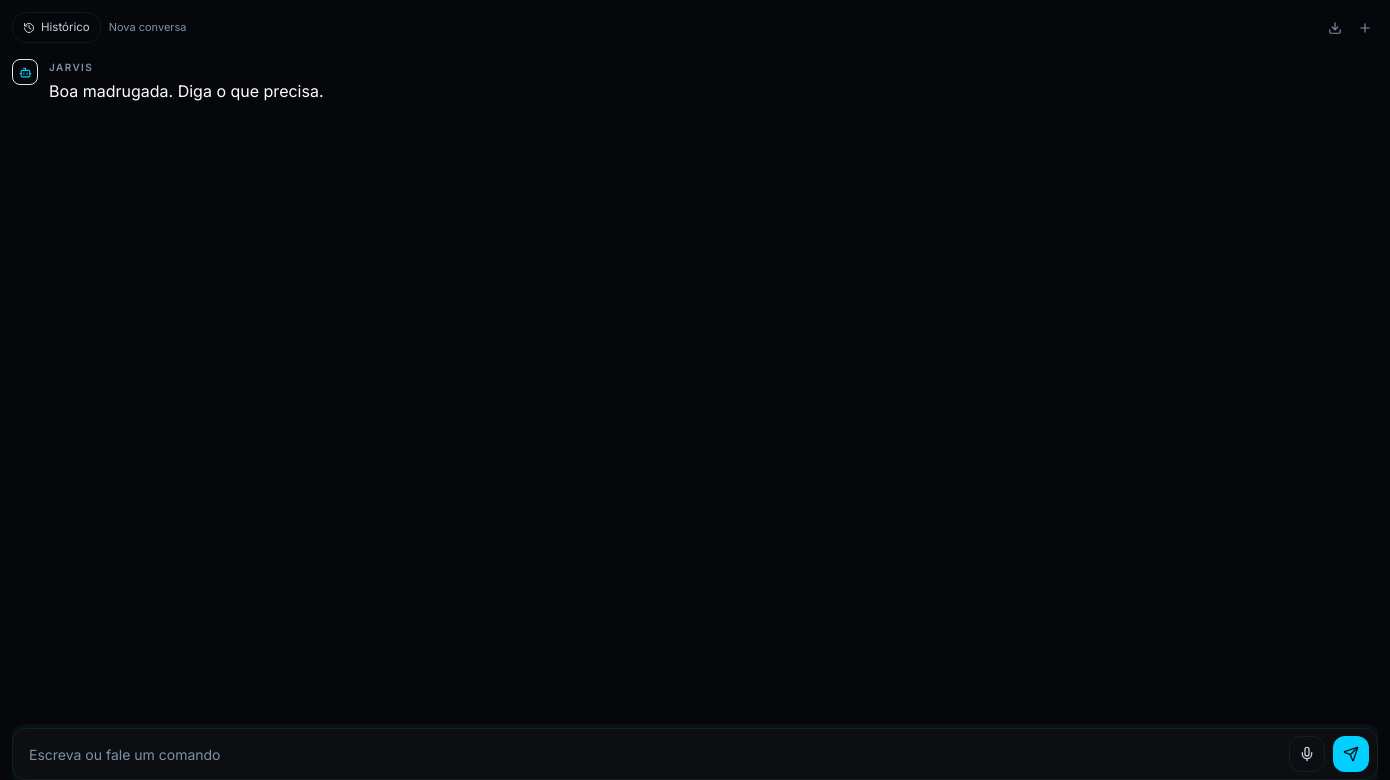
Test: histórico › a memória diz onde fica guardada
Click the button with aria-label "Histórico de conversas" at (56, 28), box [12,12,101,43]
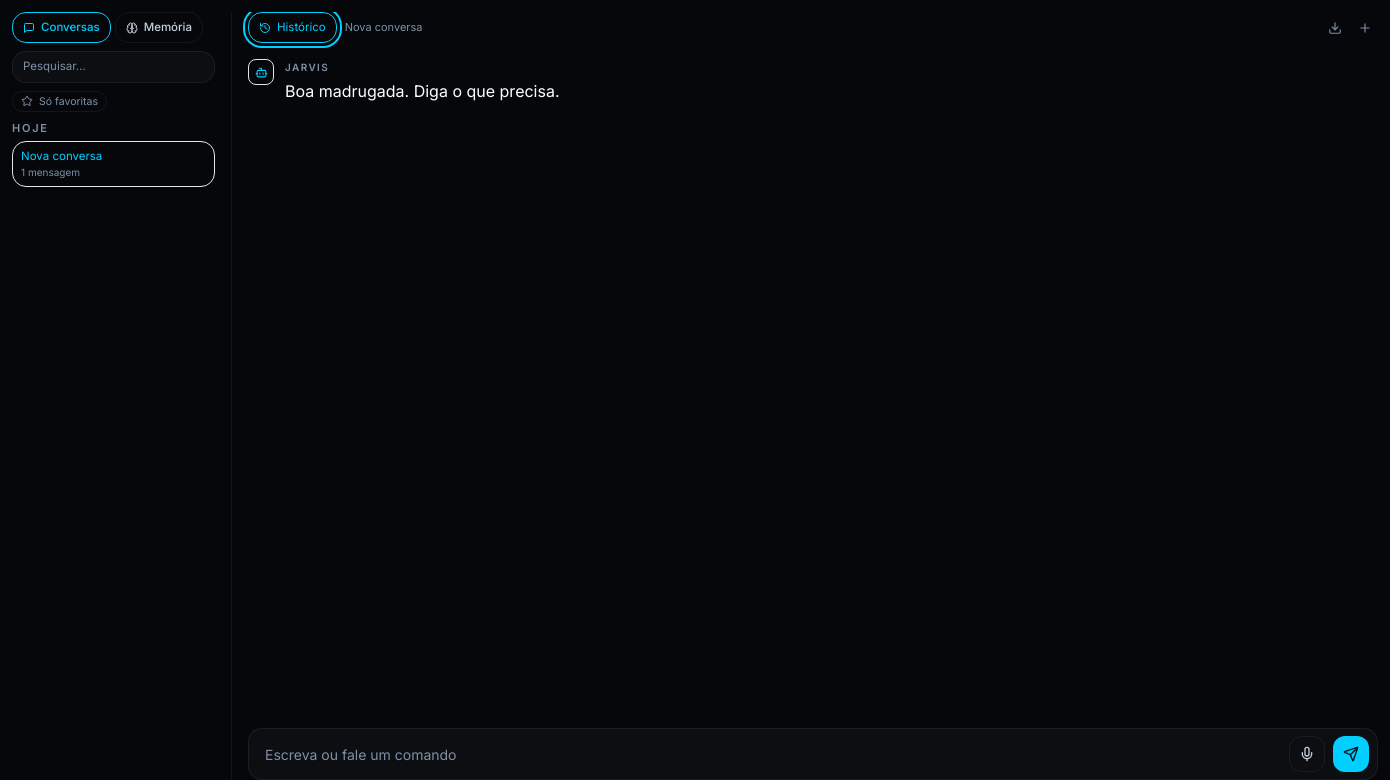
Click the tab "Memória" at (159, 28), box [115,12,203,43]
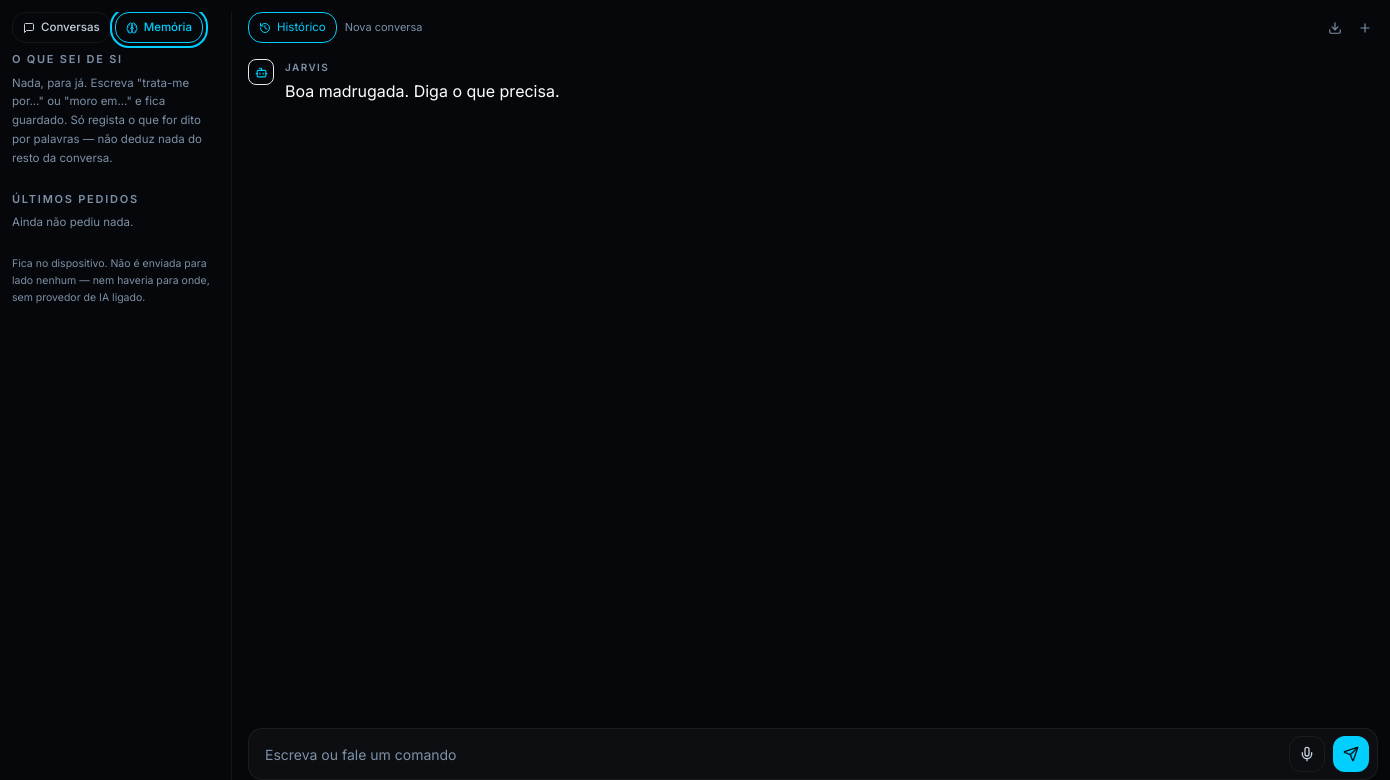
Expected: the text "Fica no dispositivo" is shown, [12,257,210,304]
